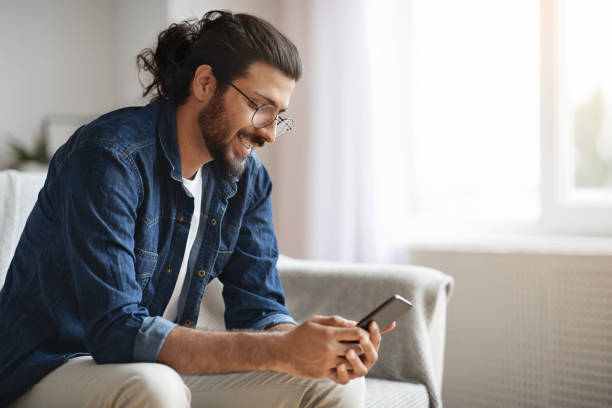without mask: (203, 55, 299, 180)
